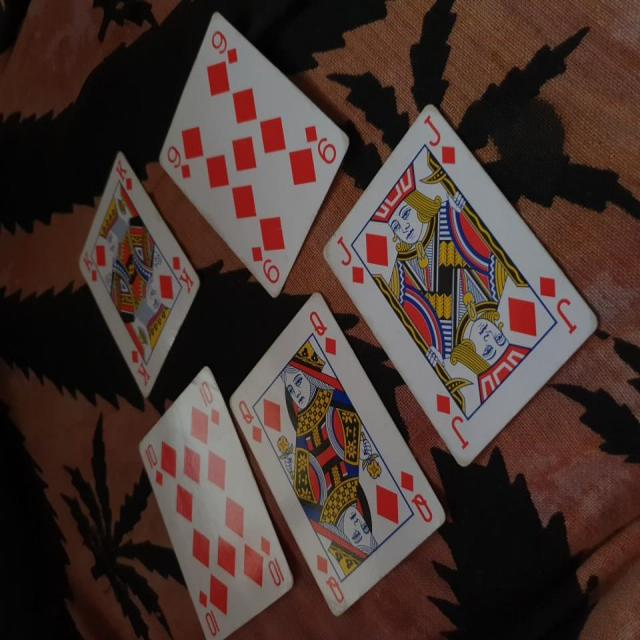10 Diamonds: (135, 365, 295, 640)
9 Diamonds: (158, 7, 350, 296)
J Diamonds: (320, 100, 601, 467)
K Diamonds: (76, 150, 201, 402)
Q Diamonds: (225, 290, 449, 620)
